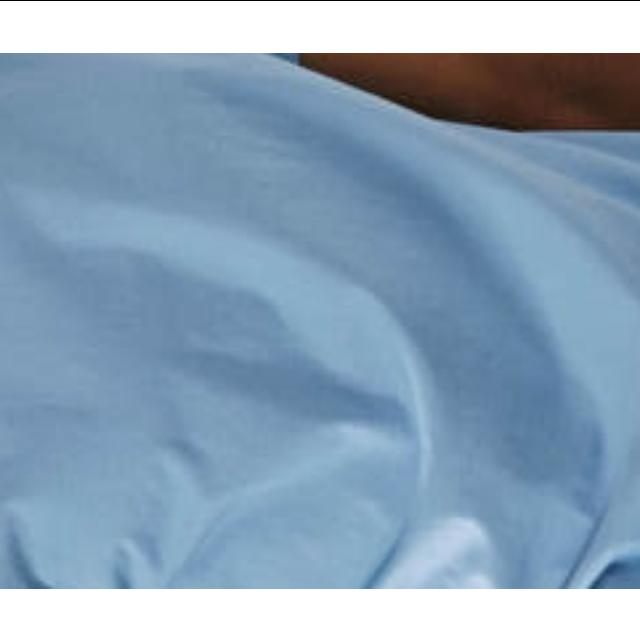cotton: (0, 52, 640, 588)
